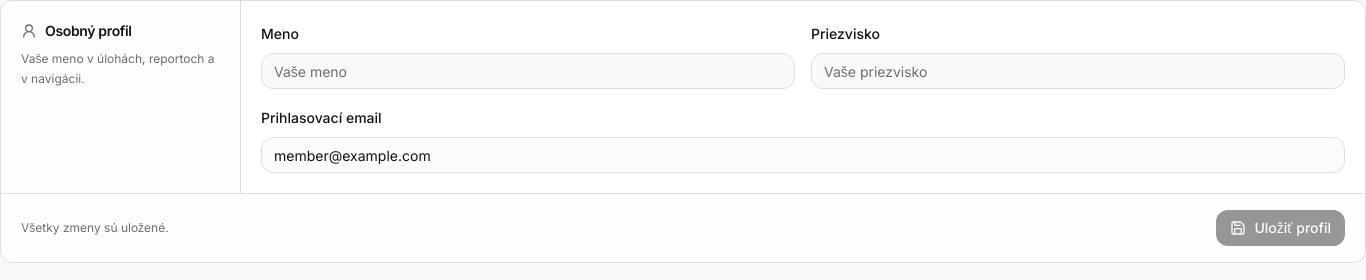
Scenario: PersonalSettings › lets a restricted member save their own name without a workspace update
In the field labelled "Meno": (528, 71) [261, 53, 795, 89], type " Test "
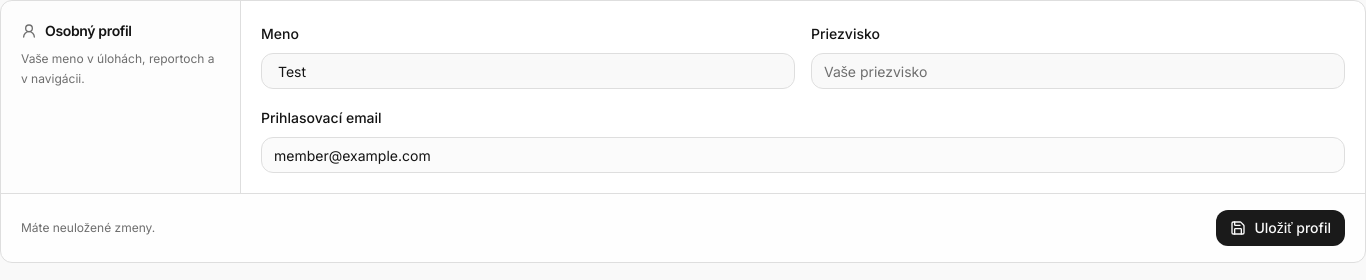
In the field labelled "Priezvisko": (1078, 71) [811, 53, 1345, 89], type " Member "
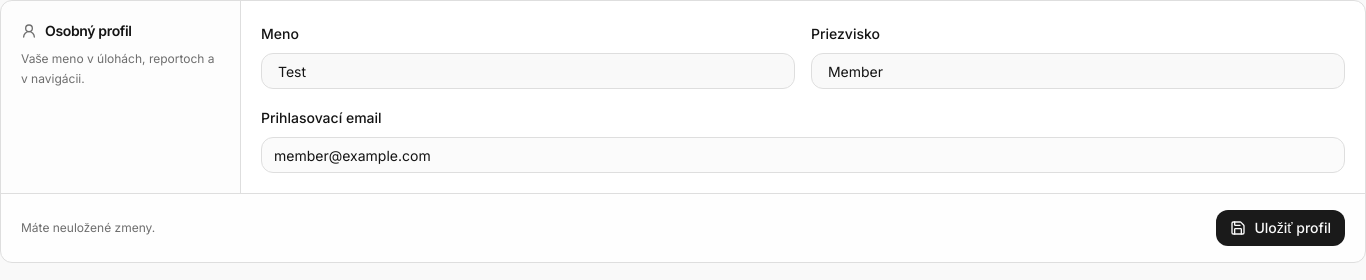
Click the button "Uložiť profil": (1281, 228) [1216, 210, 1345, 246]
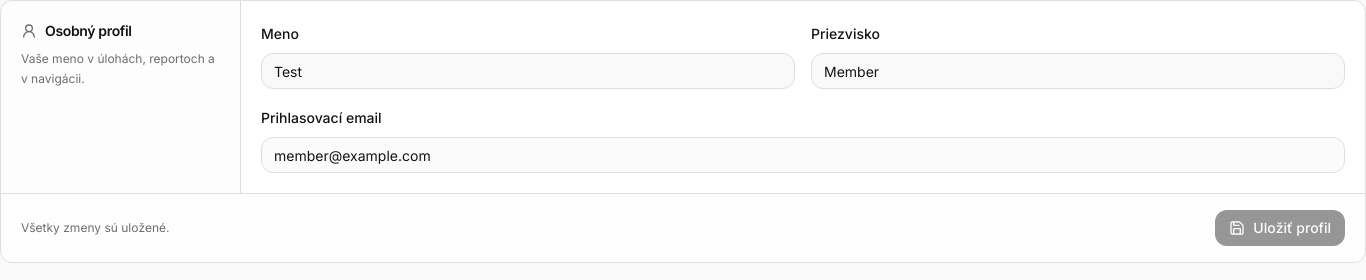
expect the button "Uložiť profil" is disabled: met, box [1215, 210, 1345, 246]
